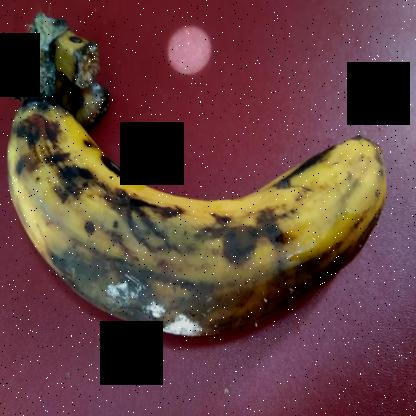rotten: (0, 97, 398, 361)
